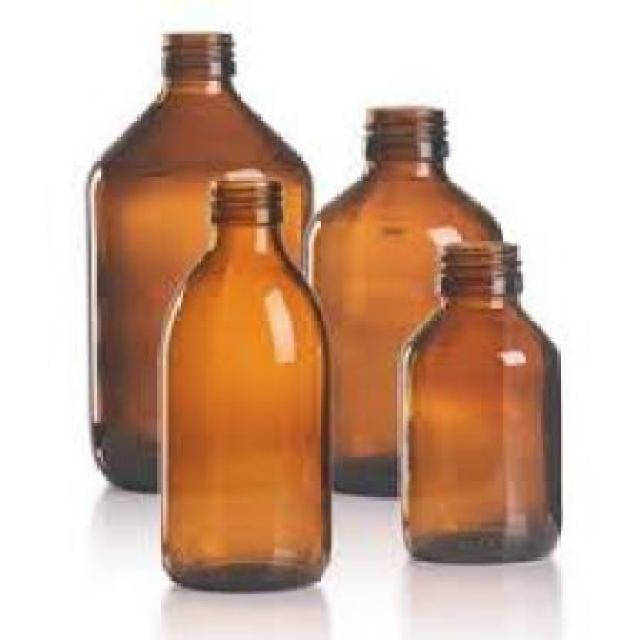kaca: (83, 32, 308, 492), (297, 103, 500, 494), (157, 170, 329, 592), (400, 240, 560, 566)
